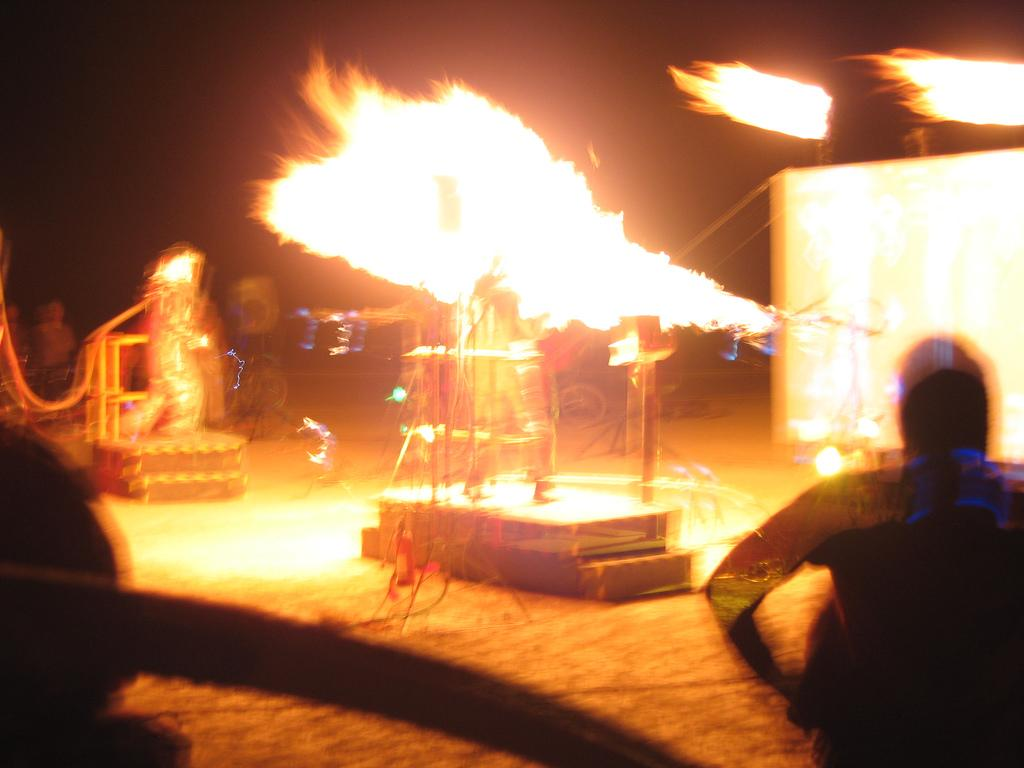fire: (348, 108, 512, 266), (522, 184, 596, 306), (938, 64, 1018, 124), (288, 170, 344, 240), (740, 84, 828, 124), (606, 250, 648, 312)
